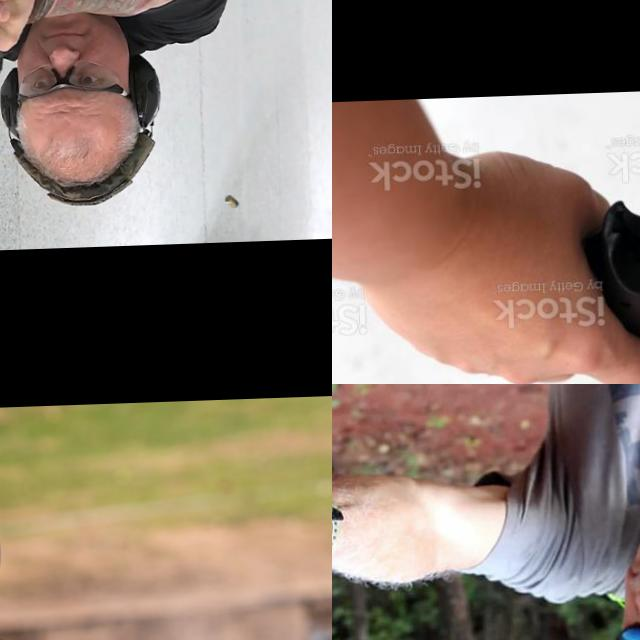handgun: (569, 184, 640, 384), (332, 512, 442, 617), (0, 10, 44, 83)
